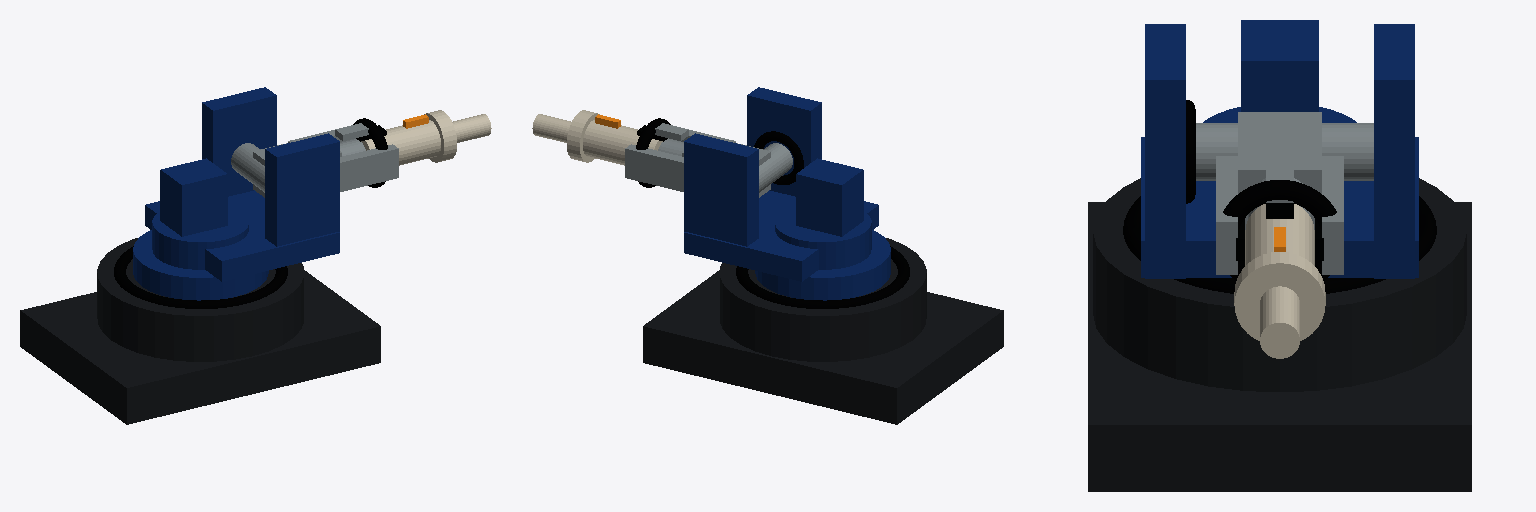
The robot description file, URDF, robot "saddle_body_multi_axis_wrist":
<robot name="saddle_body_multi_axis_wrist">
  <material name="dark_cast_housing">
    <color rgba="0.12 0.13 0.14 1" />
    </material>
  <material name="black_bearing_rubber">
    <color rgba="0.015 0.016 0.018 1" />
    </material>
  <material name="blue_anodized_yaw">
    <color rgba="0.08 0.2 0.42 1" />
    </material>
  <material name="brushed_pitch_steel">
    <color rgba="0.52 0.55 0.56 1" />
    </material>
  <material name="machined_roll_cartridge">
    <color rgba="0.78 0.75 0.68 1" />
    </material>
  <material name="amber_index_mark">
    <color rgba="0.95 0.55 0.12 1" />
    </material>
  <link name="housing">
    <visual name="grounded_base">
      <origin xyz="0 0 0.04" rpy="0 0 0" />
      <geometry>
        <box size="0.58 0.42 0.08" />
        </geometry>
      <material name="dark_cast_housing">
        <color rgba="0.12 0.13 0.14 1" />
        </material>
      </visual>
    <visual name="pedestal_cap">
      <origin xyz="0 0 0.13" rpy="0 0 0" />
      <geometry>
        <cylinder radius="0.205" length="0.1" />
        </geometry>
      <material name="dark_cast_housing">
        <color rgba="0.12 0.13 0.14 1" />
        </material>
      </visual>
    <visual name="fixed_bearing_shadow">
      <origin xyz="0 0 0.14" rpy="0 0 0" />
      <geometry>
        <cylinder radius="0.125" length="0.08" />
        </geometry>
      <material name="black_bearing_rubber">
        <color rgba="0.015 0.016 0.018 1" />
        </material>
      </visual>
    <visual name="base_bearing_ring">
      <origin xyz="0 0 0.18" rpy="0 0 0" />
      <geometry>
        <mesh filename="assets/meshes/base_bearing_ring.obj" />
        </geometry>
      <material name="black_bearing_rubber">
        <color rgba="0.015 0.016 0.018 1" />
        </material>
      </visual>
    <visual name="mount_foot_0">
      <origin xyz="-0.235 -0.165 0.01" rpy="0 0 0" />
      <geometry>
        <box size="0.06 0.05 0.02" />
        </geometry>
      <material name="black_bearing_rubber">
        <color rgba="0.015 0.016 0.018 1" />
        </material>
      </visual>
    <visual name="mount_foot_1">
      <origin xyz="-0.235 0.165 0.01" rpy="0 0 0" />
      <geometry>
        <box size="0.06 0.05 0.02" />
        </geometry>
      <material name="black_bearing_rubber">
        <color rgba="0.015 0.016 0.018 1" />
        </material>
      </visual>
    <visual name="mount_foot_2">
      <origin xyz="0.235 -0.165 0.01" rpy="0 0 0" />
      <geometry>
        <box size="0.06 0.05 0.02" />
        </geometry>
      <material name="black_bearing_rubber">
        <color rgba="0.015 0.016 0.018 1" />
        </material>
      </visual>
    <visual name="mount_foot_3">
      <origin xyz="0.235 0.165 0.01" rpy="0 0 0" />
      <geometry>
        <box size="0.06 0.05 0.02" />
        </geometry>
      <material name="black_bearing_rubber">
        <color rgba="0.015 0.016 0.018 1" />
        </material>
      </visual>
    <collision name="grounded_base">
      <origin xyz="0 0 0.04" rpy="0 0 0" />
      <geometry>
        <box size="0.58 0.42 0.08" />
        </geometry>
      </collision>
    <collision name="pedestal_cap">
      <origin xyz="0 0 0.13" rpy="0 0 0" />
      <geometry>
        <cylinder radius="0.205" length="0.1" />
        </geometry>
      </collision>
    <collision name="fixed_bearing_shadow">
      <origin xyz="0 0 0.14" rpy="0 0 0" />
      <geometry>
        <cylinder radius="0.125" length="0.08" />
        </geometry>
      </collision>
    <collision name="base_bearing_ring">
      <origin xyz="0 0 0.18" rpy="0 0 0" />
      <geometry>
        <mesh filename="assets/meshes/base_bearing_ring.obj" />
        </geometry>
      </collision>
    <collision name="mount_foot_0">
      <origin xyz="-0.235 -0.165 0.01" rpy="0 0 0" />
      <geometry>
        <box size="0.06 0.05 0.02" />
        </geometry>
      </collision>
    <collision name="mount_foot_1">
      <origin xyz="-0.235 0.165 0.01" rpy="0 0 0" />
      <geometry>
        <box size="0.06 0.05 0.02" />
        </geometry>
      </collision>
    <collision name="mount_foot_2">
      <origin xyz="0.235 -0.165 0.01" rpy="0 0 0" />
      <geometry>
        <box size="0.06 0.05 0.02" />
        </geometry>
      </collision>
    <collision name="mount_foot_3">
      <origin xyz="0.235 0.165 0.01" rpy="0 0 0" />
      <geometry>
        <box size="0.06 0.05 0.02" />
        </geometry>
      </collision>
    </link>
  <link name="yaw_stage">
    <visual name="yaw_bearing_plate">
      <origin xyz="0 0 0.025" rpy="0 0 0" />
      <geometry>
        <cylinder radius="0.134" length="0.05" />
        </geometry>
      <material name="blue_anodized_yaw">
        <color rgba="0.08 0.2 0.42 1" />
        </material>
      </visual>
    <visual name="yaw_neck">
      <origin xyz="0 0 0.08" rpy="0 0 0" />
      <geometry>
        <cylinder radius="0.096" length="0.06" />
        </geometry>
      <material name="blue_anodized_yaw">
        <color rgba="0.08 0.2 0.42 1" />
        </material>
      </visual>
    <visual name="saddle_floor">
      <origin xyz="0.095 0 0.0725" rpy="0 0 0" />
      <geometry>
        <box size="0.27 0.305 0.045" />
        </geometry>
      <material name="blue_anodized_yaw">
        <color rgba="0.08 0.2 0.42 1" />
        </material>
      </visual>
    <visual name="rear_saddle_web">
      <origin xyz="-0.015 0 0.145" rpy="0 0 0" />
      <geometry>
        <box size="0.105 0.085 0.155" />
        </geometry>
      <material name="blue_anodized_yaw">
        <color rgba="0.08 0.2 0.42 1" />
        </material>
      </visual>
    <visual name="pitch_cheek_0">
      <origin xyz="0.16 -0.125 0.17" rpy="0 0 0" />
      <geometry>
        <box size="0.145 0.045 0.24" />
        </geometry>
      <material name="blue_anodized_yaw">
        <color rgba="0.08 0.2 0.42 1" />
        </material>
      </visual>
    <visual name="pitch_cheek_0_bearing_cup">
      <origin xyz="0.16 -0.1025 0.17" rpy="0 0 0" />
      <geometry>
        <mesh filename="assets/meshes/pitch_cheek_0_bearing_cup.obj" />
        </geometry>
      <material name="black_bearing_rubber">
        <color rgba="0.015 0.016 0.018 1" />
        </material>
      </visual>
    <visual name="pitch_cheek_1">
      <origin xyz="0.16 0.125 0.17" rpy="0 0 0" />
      <geometry>
        <box size="0.145 0.045 0.24" />
        </geometry>
      <material name="blue_anodized_yaw">
        <color rgba="0.08 0.2 0.42 1" />
        </material>
      </visual>
    <visual name="pitch_cheek_1_bearing_cup">
      <origin xyz="0.16 0.1025 0.17" rpy="0 0 0" />
      <geometry>
        <mesh filename="assets/meshes/pitch_cheek_1_bearing_cup.obj" />
        </geometry>
      <material name="black_bearing_rubber">
        <color rgba="0.015 0.016 0.018 1" />
        </material>
      </visual>
    <collision name="yaw_bearing_plate">
      <origin xyz="0 0 0.025" rpy="0 0 0" />
      <geometry>
        <cylinder radius="0.134" length="0.05" />
        </geometry>
      </collision>
    <collision name="yaw_neck">
      <origin xyz="0 0 0.08" rpy="0 0 0" />
      <geometry>
        <cylinder radius="0.096" length="0.06" />
        </geometry>
      </collision>
    <collision name="saddle_floor">
      <origin xyz="0.095 0 0.0725" rpy="0 0 0" />
      <geometry>
        <box size="0.27 0.305 0.045" />
        </geometry>
      </collision>
    <collision name="rear_saddle_web">
      <origin xyz="-0.015 0 0.145" rpy="0 0 0" />
      <geometry>
        <box size="0.105 0.085 0.155" />
        </geometry>
      </collision>
    <collision name="pitch_cheek_0">
      <origin xyz="0.16 -0.125 0.17" rpy="0 0 0" />
      <geometry>
        <box size="0.145 0.045 0.24" />
        </geometry>
      </collision>
    <collision name="pitch_cheek_0_bearing_cup">
      <origin xyz="0.16 -0.1025 0.17" rpy="0 0 0" />
      <geometry>
        <mesh filename="assets/meshes/pitch_cheek_0_bearing_cup.obj" />
        </geometry>
      </collision>
    <collision name="pitch_cheek_1">
      <origin xyz="0.16 0.125 0.17" rpy="0 0 0" />
      <geometry>
        <box size="0.145 0.045 0.24" />
        </geometry>
      </collision>
    <collision name="pitch_cheek_1_bearing_cup">
      <origin xyz="0.16 0.1025 0.17" rpy="0 0 0" />
      <geometry>
        <mesh filename="assets/meshes/pitch_cheek_1_bearing_cup.obj" />
        </geometry>
      </collision>
    </link>
  <link name="pitch_support">
    <visual name="pitch_trunnion">
      <origin xyz="0 0 0" rpy="-1.5708 0 0" />
      <geometry>
        <cylinder radius="0.032" length="0.205" />
        </geometry>
      <material name="brushed_pitch_steel">
        <color rgba="0.52 0.55 0.56 1" />
        </material>
      </visual>
    <visual name="pitch_saddle_body">
      <origin xyz="0.06 0 0" rpy="0 0 0" />
      <geometry>
        <box size="0.15 0.092 0.082" />
        </geometry>
      <material name="brushed_pitch_steel">
        <color rgba="0.52 0.55 0.56 1" />
        </material>
      </visual>
    <visual name="tapered_roll_neck">
      <origin xyz="0.142 0 0" rpy="0 1.5708 0" />
      <geometry>
        <cylinder radius="0.035" length="0.118" />
        </geometry>
      <material name="brushed_pitch_steel">
        <color rgba="0.52 0.55 0.56 1" />
        </material>
      </visual>
    <visual name="roll_side_rail_0">
      <origin xyz="0.165 -0.058 0" rpy="0 0 0" />
      <geometry>
        <box size="0.172 0.024 0.064" />
        </geometry>
      <material name="brushed_pitch_steel">
        <color rgba="0.52 0.55 0.56 1" />
        </material>
      </visual>
    <visual name="roll_side_rail_1">
      <origin xyz="0.165 0.058 0" rpy="0 0 0" />
      <geometry>
        <box size="0.172 0.024 0.064" />
        </geometry>
      <material name="brushed_pitch_steel">
        <color rgba="0.52 0.55 0.56 1" />
        </material>
      </visual>
    <visual name="roll_bearing_ring">
      <origin xyz="0.225 0 0" rpy="0 0 0" />
      <geometry>
        <mesh filename="assets/meshes/roll_bearing_ring.obj" />
        </geometry>
      <material name="black_bearing_rubber">
        <color rgba="0.015 0.016 0.018 1" />
        </material>
      </visual>
    <visual name="top_roll_bridge">
      <origin xyz="0.195 0 0.055" rpy="0 0 0" />
      <geometry>
        <box size="0.08 0.03 0.014" />
        </geometry>
      <material name="brushed_pitch_steel">
        <color rgba="0.52 0.55 0.56 1" />
        </material>
      </visual>
    <visual name="top_roll_guide">
      <origin xyz="0.225 0 0.043" rpy="0 0 0" />
      <geometry>
        <box size="0.06 0.03 0.01" />
        </geometry>
      <material name="black_bearing_rubber">
        <color rgba="0.015 0.016 0.018 1" />
        </material>
      </visual>
    <visual name="roll_guide_0">
      <origin xyz="0.225 -0.043 0" rpy="0 0 0" />
      <geometry>
        <box size="0.06 0.01 0.026" />
        </geometry>
      <material name="black_bearing_rubber">
        <color rgba="0.015 0.016 0.018 1" />
        </material>
      </visual>
    <visual name="roll_guide_1">
      <origin xyz="0.225 0.043 0" rpy="0 0 0" />
      <geometry>
        <box size="0.06 0.01 0.026" />
        </geometry>
      <material name="black_bearing_rubber">
        <color rgba="0.015 0.016 0.018 1" />
        </material>
      </visual>
    <collision name="pitch_trunnion">
      <origin xyz="0 0 0" rpy="-1.5708 0 0" />
      <geometry>
        <cylinder radius="0.032" length="0.205" />
        </geometry>
      </collision>
    <collision name="pitch_saddle_body">
      <origin xyz="0.06 0 0" rpy="0 0 0" />
      <geometry>
        <box size="0.15 0.092 0.082" />
        </geometry>
      </collision>
    <collision name="tapered_roll_neck">
      <origin xyz="0.142 0 0" rpy="0 1.5708 0" />
      <geometry>
        <cylinder radius="0.035" length="0.118" />
        </geometry>
      </collision>
    <collision name="roll_side_rail_0">
      <origin xyz="0.165 -0.058 0" rpy="0 0 0" />
      <geometry>
        <box size="0.172 0.024 0.064" />
        </geometry>
      </collision>
    <collision name="roll_side_rail_1">
      <origin xyz="0.165 0.058 0" rpy="0 0 0" />
      <geometry>
        <box size="0.172 0.024 0.064" />
        </geometry>
      </collision>
    <collision name="roll_bearing_ring">
      <origin xyz="0.225 0 0" rpy="0 0 0" />
      <geometry>
        <mesh filename="assets/meshes/roll_bearing_ring.obj" />
        </geometry>
      </collision>
    <collision name="top_roll_bridge">
      <origin xyz="0.195 0 0.055" rpy="0 0 0" />
      <geometry>
        <box size="0.08 0.03 0.014" />
        </geometry>
      </collision>
    <collision name="top_roll_guide">
      <origin xyz="0.225 0 0.043" rpy="0 0 0" />
      <geometry>
        <box size="0.06 0.03 0.01" />
        </geometry>
      </collision>
    <collision name="roll_guide_0">
      <origin xyz="0.225 -0.043 0" rpy="0 0 0" />
      <geometry>
        <box size="0.06 0.01 0.026" />
        </geometry>
      </collision>
    <collision name="roll_guide_1">
      <origin xyz="0.225 0.043 0" rpy="0 0 0" />
      <geometry>
        <box size="0.06 0.01 0.026" />
        </geometry>
      </collision>
    </link>
  <link name="roll_cartridge">
    <visual name="roll_barrel">
      <origin xyz="0.063 0 0" rpy="0 1.5708 0" />
      <geometry>
        <cylinder radius="0.038" length="0.16" />
        </geometry>
      <material name="machined_roll_cartridge">
        <color rgba="0.78 0.75 0.68 1" />
        </material>
      </visual>
    <visual name="output_flange">
      <origin xyz="0.156 0 0" rpy="0 1.5708 0" />
      <geometry>
        <cylinder radius="0.05" length="0.03" />
        </geometry>
      <material name="machined_roll_cartridge">
        <color rgba="0.78 0.75 0.68 1" />
        </material>
      </visual>
    <visual name="output_spigot">
      <origin xyz="0.218 0 0" rpy="0 1.5708 0" />
      <geometry>
        <cylinder radius="0.022" length="0.094" />
        </geometry>
      <material name="machined_roll_cartridge">
        <color rgba="0.78 0.75 0.68 1" />
        </material>
      </visual>
    <visual name="roll_index_key">
      <origin xyz="0.105 0 0.044" rpy="0 0 0" />
      <geometry>
        <box size="0.052 0.014 0.014" />
        </geometry>
      <material name="amber_index_mark">
        <color rgba="0.95 0.55 0.12 1" />
        </material>
      </visual>
    <collision name="roll_barrel">
      <origin xyz="0.063 0 0" rpy="0 1.5708 0" />
      <geometry>
        <cylinder radius="0.038" length="0.16" />
        </geometry>
      </collision>
    <collision name="output_flange">
      <origin xyz="0.156 0 0" rpy="0 1.5708 0" />
      <geometry>
        <cylinder radius="0.05" length="0.03" />
        </geometry>
      </collision>
    <collision name="output_spigot">
      <origin xyz="0.218 0 0" rpy="0 1.5708 0" />
      <geometry>
        <cylinder radius="0.022" length="0.094" />
        </geometry>
      </collision>
    <collision name="roll_index_key">
      <origin xyz="0.105 0 0.044" rpy="0 0 0" />
      <geometry>
        <box size="0.052 0.014 0.014" />
        </geometry>
      </collision>
    </link>
  <joint name="housing_to_yaw" type="revolute">
    <origin xyz="0 0 0.18" rpy="0 0 0" />
    <parent link="housing" />
    <child link="yaw_stage" />
    <axis xyz="0 0 1" />
    <limit effort="80" velocity="1.5" lower="-3.14159" upper="3.14159" />
    </joint>
  <joint name="yaw_to_pitch" type="revolute">
    <origin xyz="0.16 0 0.17" rpy="0 0 0" />
    <parent link="yaw_stage" />
    <child link="pitch_support" />
    <axis xyz="0 -1 0" />
    <limit effort="55" velocity="1.2" lower="-0.85" upper="0.85" />
    </joint>
  <joint name="pitch_to_roll" type="revolute">
    <origin xyz="0.225 0 0" rpy="0 0 0" />
    <parent link="pitch_support" />
    <child link="roll_cartridge" />
    <axis xyz="1 0 0" />
    <limit effort="30" velocity="2.5" lower="-3.14159" upper="3.14159" />
    </joint>
  </robot>

--- What the picture shows (computed from the rendered views, not written in the file) ---
Views: 3 orthographic renders of the robot side by side, from view 1: azimuth 30°, elevation 25°; view 2: azimuth 150°, elevation 25°; view 3: azimuth 270°, elevation 25°.
Model saddle_body_multi_axis_wrist with 4 links and 3 joints (3 revolute), rooted at housing, posed every joint at zero.
Visible links, largest first — view 1: housing, yaw_stage, pitch_support, roll_cartridge; view 2: housing, yaw_stage, pitch_support, roll_cartridge; view 3: housing, yaw_stage, pitch_support, roll_cartridge.
Link boxes in pixels (x1,y1,x2,y2): housing: (20,238,380,424); yaw_stage: (133,87,339,300); pitch_support: (231,118,398,197); roll_cartridge: (361,110,491,165); housing: (643,238,1003,424); yaw_stage: (684,87,890,300); pitch_support: (625,118,792,197); roll_cartridge: (532,110,662,165); housing: (1088,178,1471,491); yaw_stage: (1141,20,1418,278); pitch_support: (1196,112,1373,280); roll_cartridge: (1234,204,1325,358).
Bounding box of the posed robot: 0.94 × 0.42 × 0.47 m (x, y, z).
3 mesh visuals loaded from 4 distinct referenced files (3 OBJ); not drawn: 1 (reference not matched to a file when rendering).
